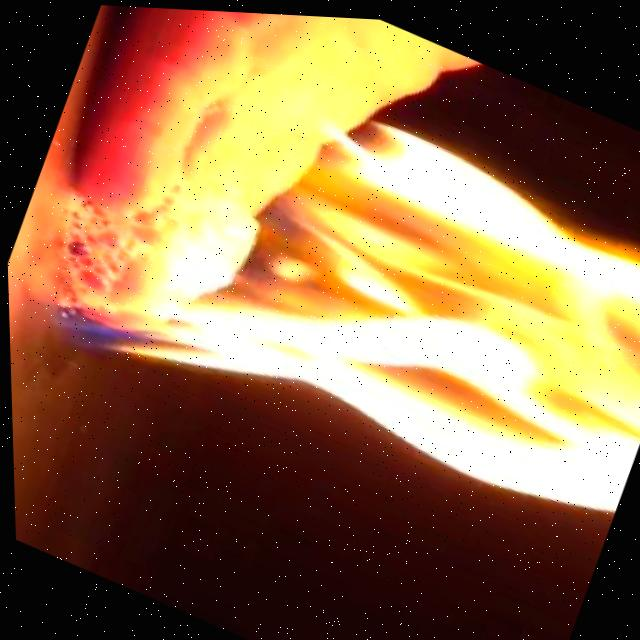Fire: (36, 6, 640, 565)
